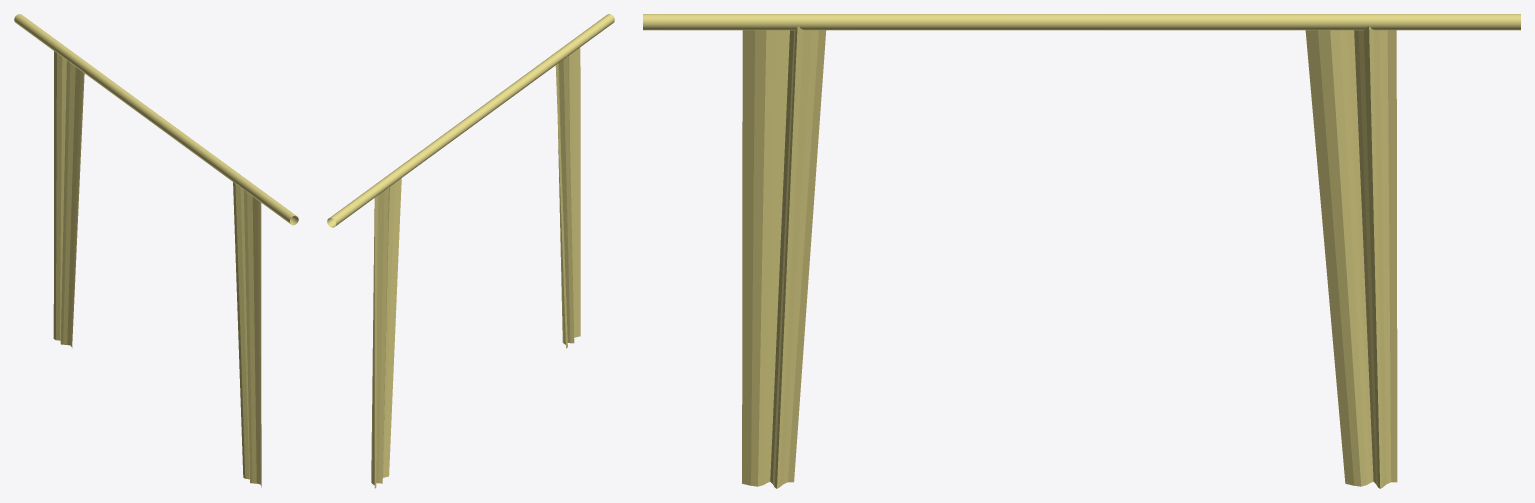
Rendered from curtains.fbx.
3 views of the same model, side by side, from view 1: azimuth 30°, elevation 25°; view 2: azimuth 150°, elevation 25°; view 3: azimuth 270°, elevation 25° (orthographic). The views are drawn at different scales.
Parts seen in each view (by area): view 1: Cylinder.002; view 2: Cylinder.002; view 3: Cylinder.002.
Part boxes in pixels (bbox=[...]): Cylinder.002: bbox=[14, 14, 298, 487]; Cylinder.002: bbox=[327, 14, 614, 488]; Cylinder.002: bbox=[643, 14, 1520, 488].
Bounding box in the file's own units: 8.14 × 242 × 409.
